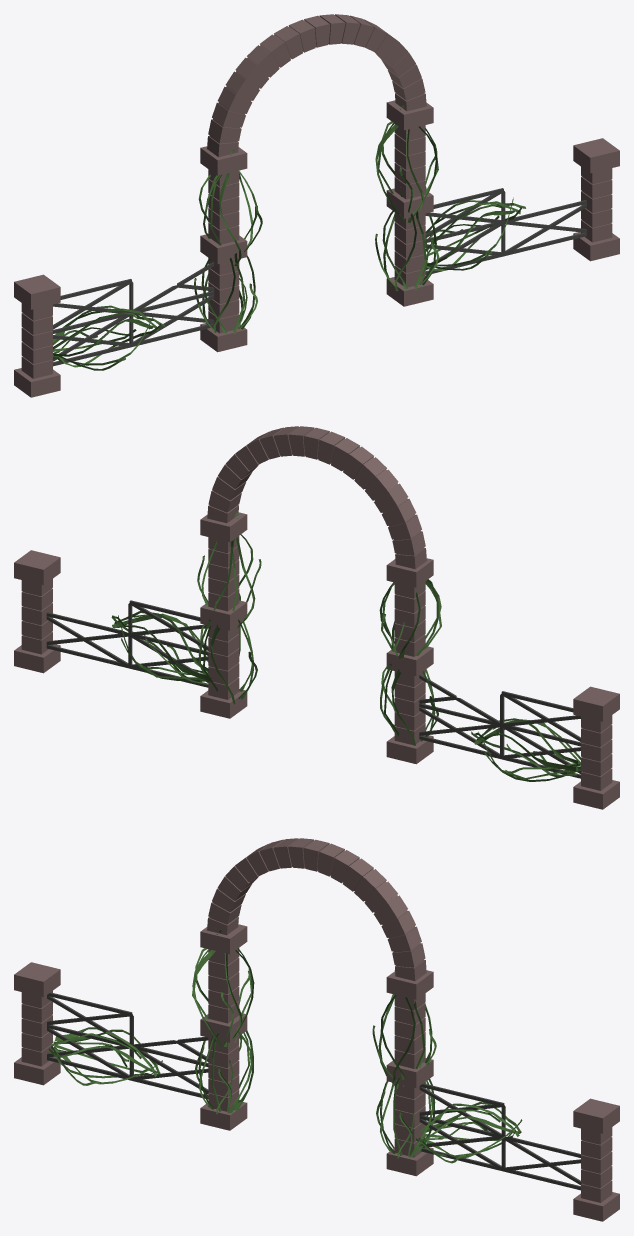
The model's file is 03 Entrance_Gate.FBX.
3 renders of one model, top to bottom at view 1: azimuth 30°, elevation 25°; view 2: azimuth 150°, elevation 25°; view 3: azimuth 330°, elevation 25°, orthographic.
Visible parts, largest first — view 1: Box070; view 2: Box070; view 3: Box070.
Boxes of the visible parts, x1,y1,x2,y2 form: Box070: (14,14,619,397); Box070: (14,426,619,809); Box070: (14,838,619,1221).
Size of the model in its own units: 5957 by 2882 by 630.
